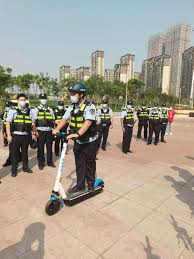kick_wheel: (46, 198, 61, 214)
